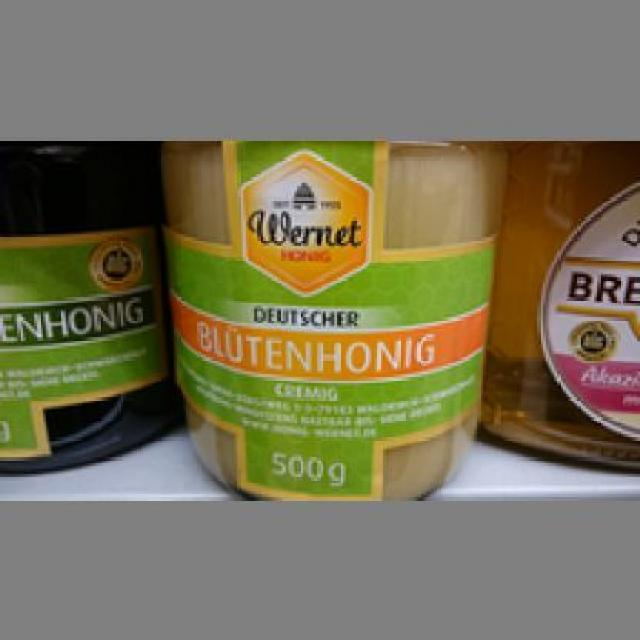Honey: (160, 137, 509, 500)
